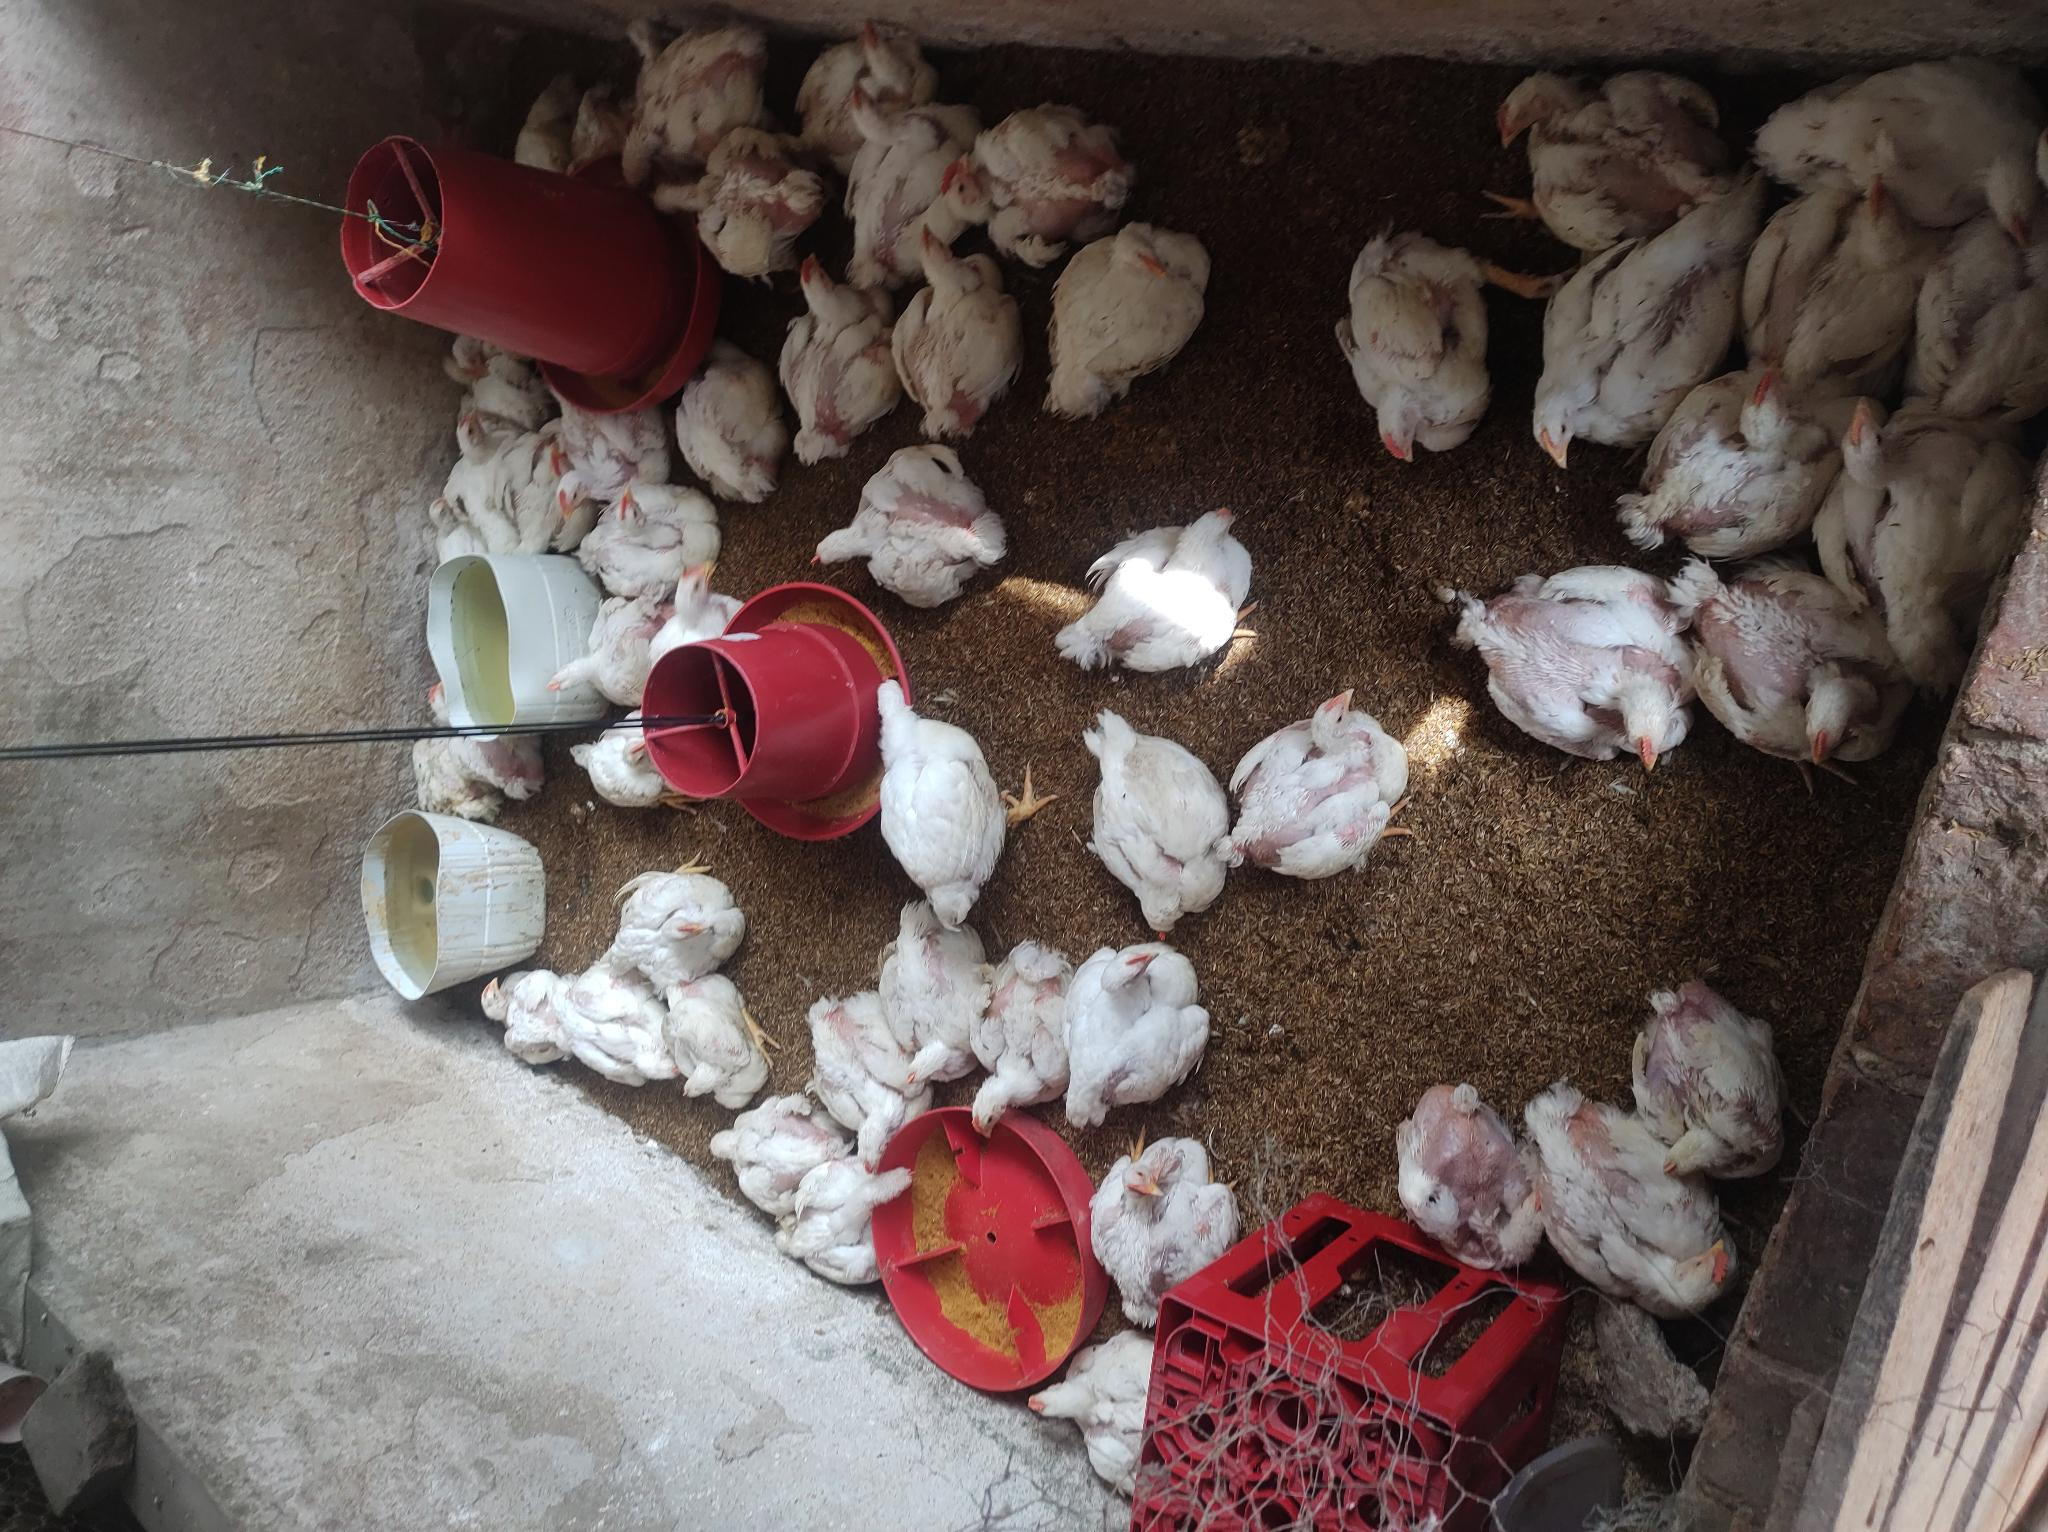Pollos: (1535, 203, 1736, 507), (1528, 1056, 1750, 1316), (1824, 389, 2032, 661), (1672, 558, 1908, 790), (1754, 43, 2045, 225), (1464, 550, 1683, 784), (1022, 191, 1226, 438), (849, 679, 1034, 932), (1718, 158, 1924, 383), (1622, 356, 1829, 574), (1330, 208, 1498, 475), (1483, 50, 1736, 225), (1630, 951, 1820, 1176), (796, 443, 1004, 637), (997, 1320, 1199, 1505), (1051, 512, 1263, 686), (1071, 927, 1242, 1130), (1081, 706, 1232, 933), (1242, 682, 1414, 880), (615, 130, 812, 303), (1380, 1052, 1532, 1270), (603, 10, 788, 185), (1075, 1131, 1248, 1310), (751, 241, 890, 457), (763, 1152, 951, 1303), (940, 101, 1137, 245), (1924, 203, 2048, 423), (803, 87, 960, 259), (399, 682, 550, 858), (862, 908, 1001, 1089), (903, 203, 1010, 433), (796, 978, 927, 1159), (970, 941, 1081, 1146), (655, 946, 785, 1118), (796, 3, 964, 134), (607, 840, 751, 978), (685, 349, 796, 525), (560, 954, 685, 1093), (520, 581, 655, 702), (560, 389, 677, 526), (698, 1081, 822, 1204), (581, 467, 726, 563), (655, 558, 750, 689), (560, 706, 676, 813), (463, 945, 560, 1062), (396, 480, 510, 578), (409, 346, 537, 433), (497, 56, 560, 195), (442, 420, 513, 507), (442, 309, 537, 373), (520, 433, 570, 480)
